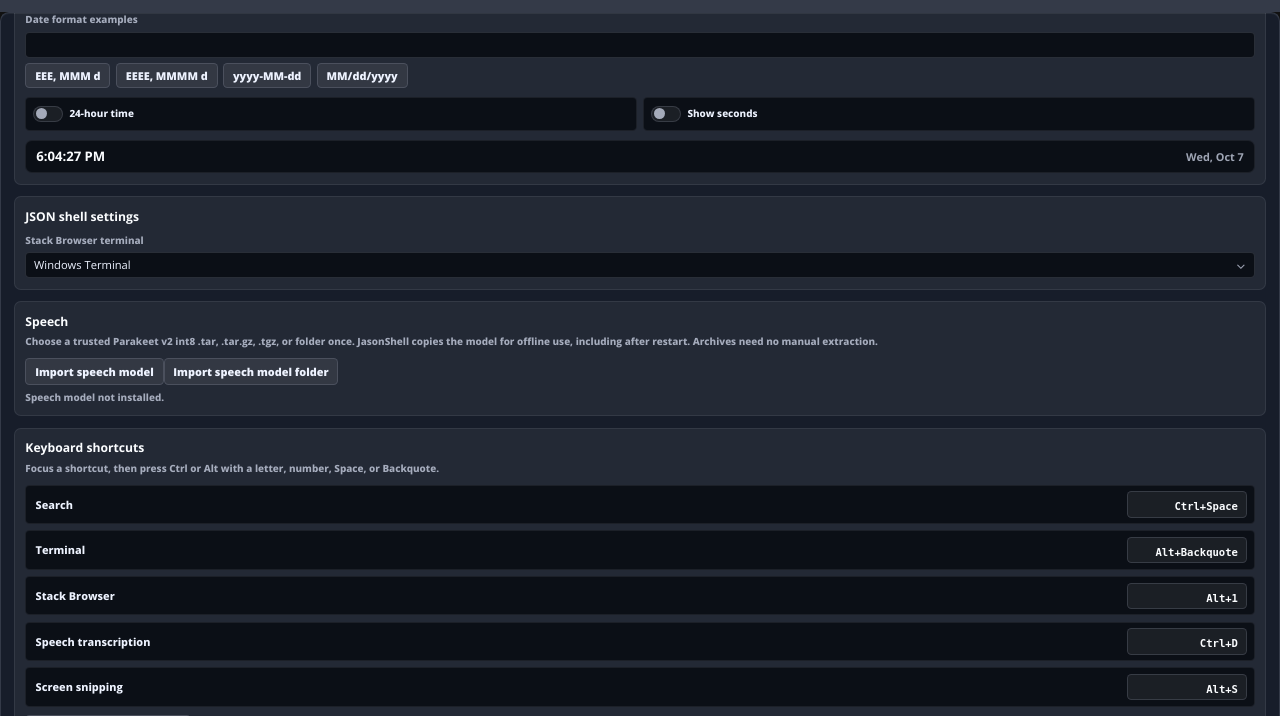
Settings speech model import acceptance (mocked native IPC) › archive in flight disables folder action and does not issue a second import command
(page scrolled)
Click the button "Import speech model": (94,372) [25,358,164,385]
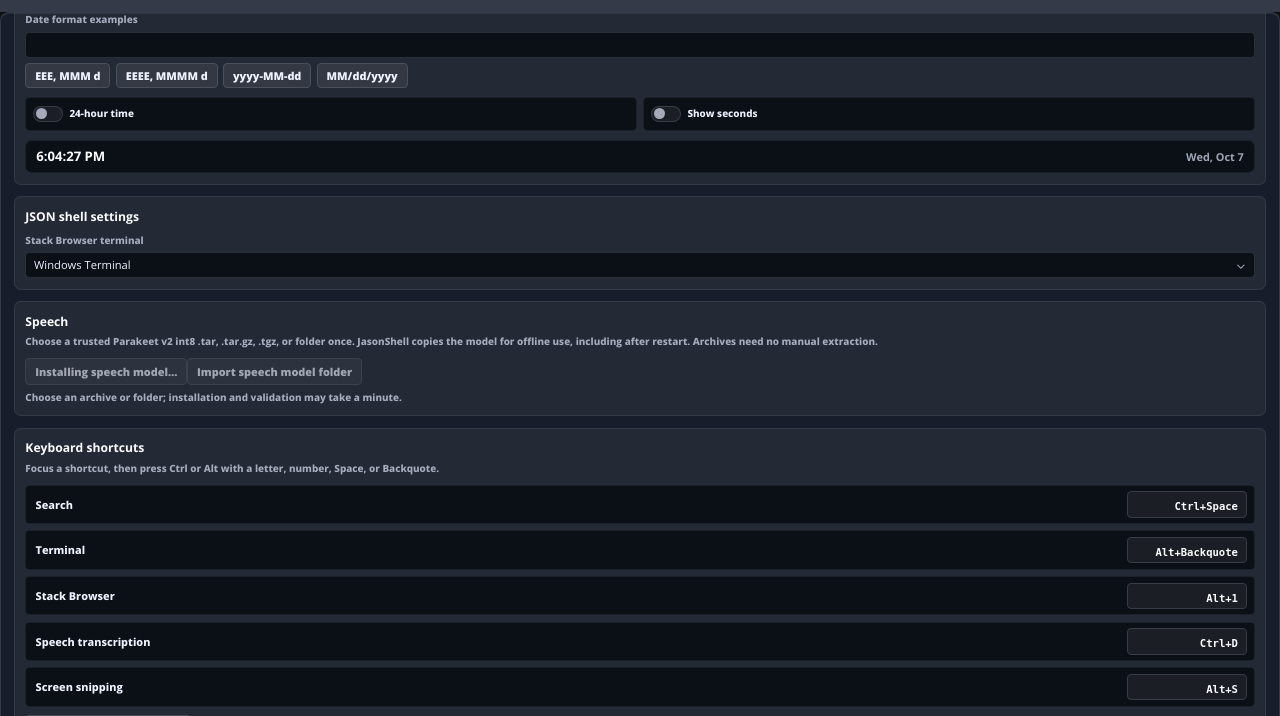
Check: the button "Import speech model folder" is disabled
Click the button "Import speech model folder": (275,372) [187,358,362,385]
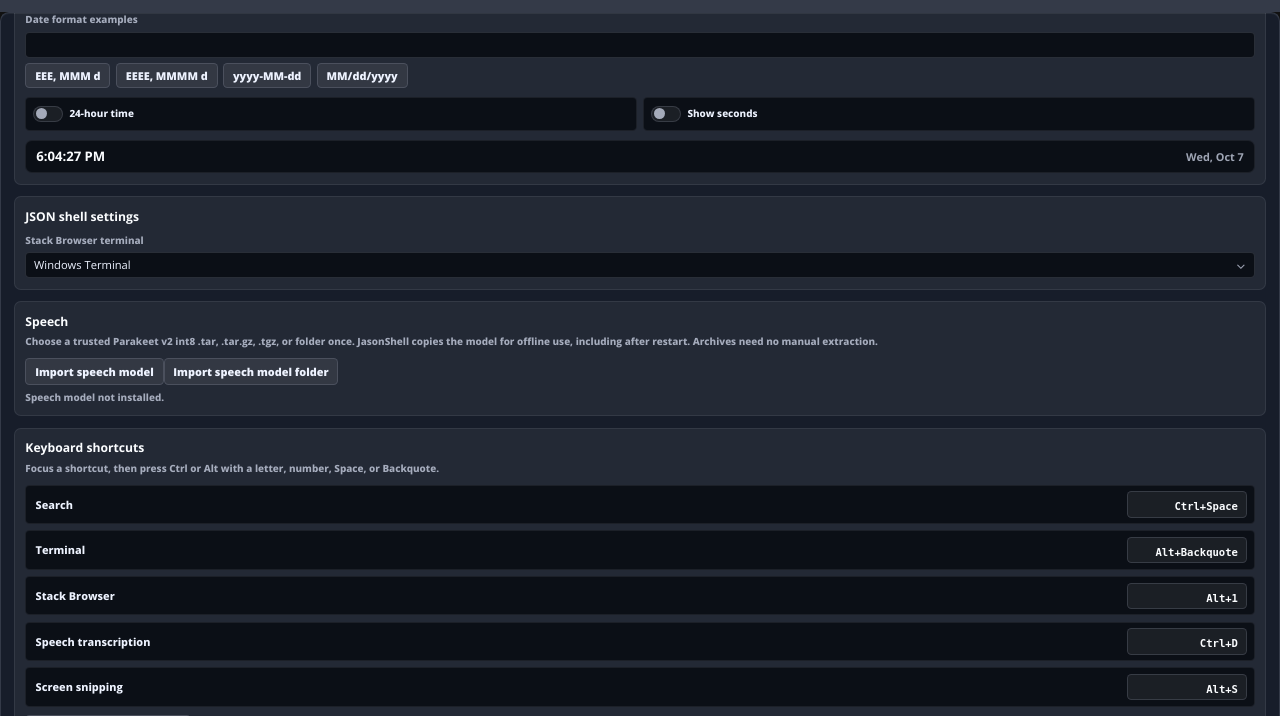
Check: the button "Import speech model folder" is enabled, box [164,358,338,385]
